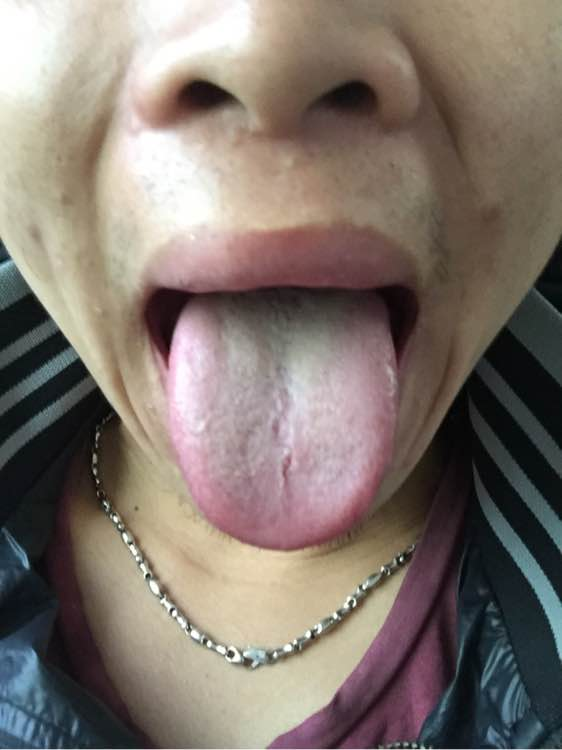huangtaishe: (167, 289, 397, 549)
liewenshe: (268, 361, 295, 503)
